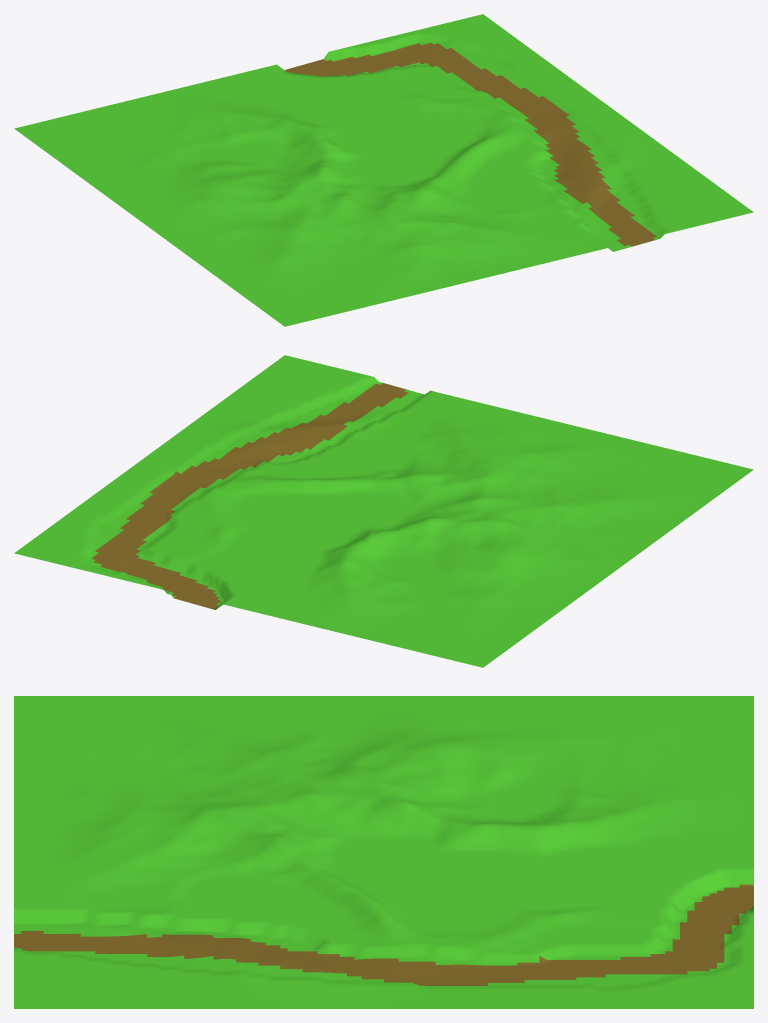
File: park.fbx
3 renders of one model, top to bottom at view 1: azimuth 30°, elevation 25°; view 2: azimuth 150°, elevation 25°; view 3: azimuth 270°, elevation 25°, orthographic. The views are drawn at different scales.
Parts seen in each view (by area): view 1: Landscape_1; view 2: Landscape_1; view 3: Landscape_1.
Part boxes in pixels (x1,y1,x2,y2): Landscape_1: (14, 14, 753, 326); Landscape_1: (14, 355, 753, 667); Landscape_1: (14, 696, 753, 1008).
Bounding box in the file's own units: 3544 × 131 × 3544.
